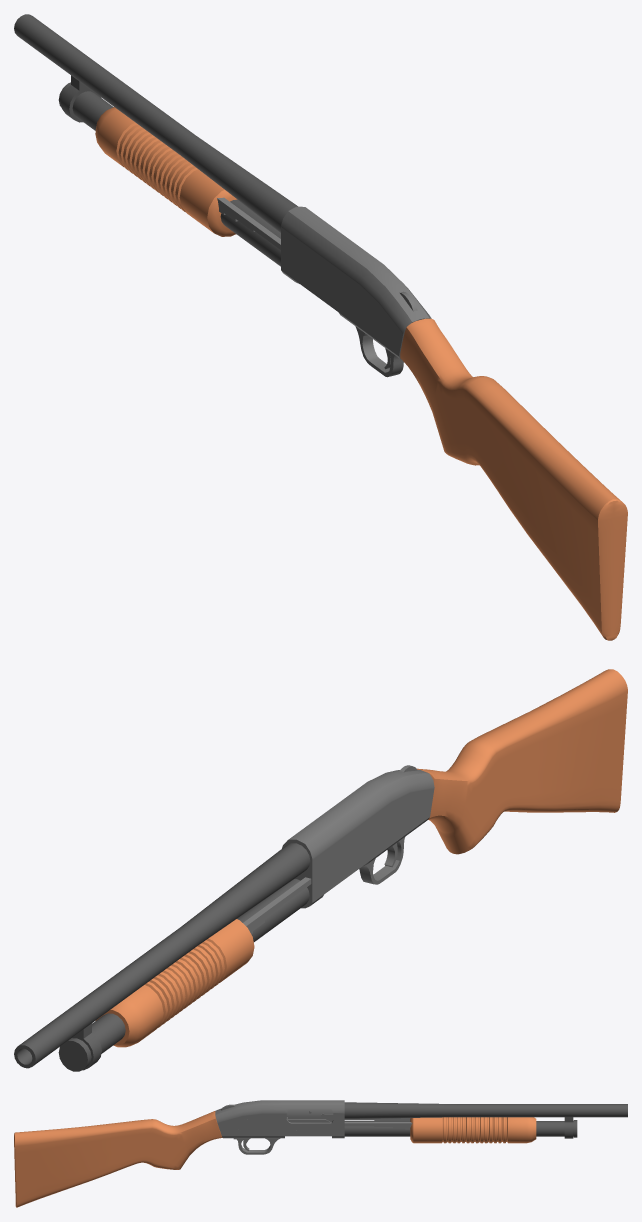
3 views of the same model, one above another, from view 1: azimuth 30°, elevation 25°; view 2: azimuth 150°, elevation 25°; view 3: azimuth 270°, elevation 25° (orthographic). The views are drawn at different scales.
Visible parts, largest first — view 1: Cylinder.001; view 2: Cylinder.001; view 3: Cylinder.001.
Part boxes in pixels (x1,y1,x2,y2): Cylinder.001: [14, 14, 627, 640]; Cylinder.001: [14, 669, 627, 1071]; Cylinder.001: [14, 1100, 627, 1207].
Size of the model in its own units: 4.53 by 18.56 by 97.54.
